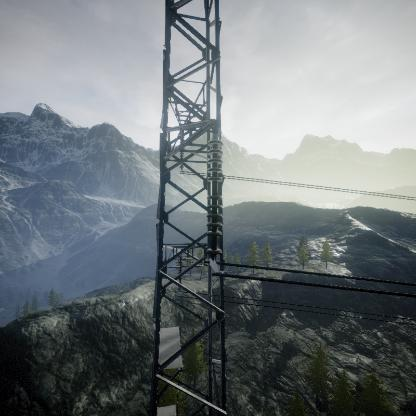insulator: (206, 135, 224, 260)
